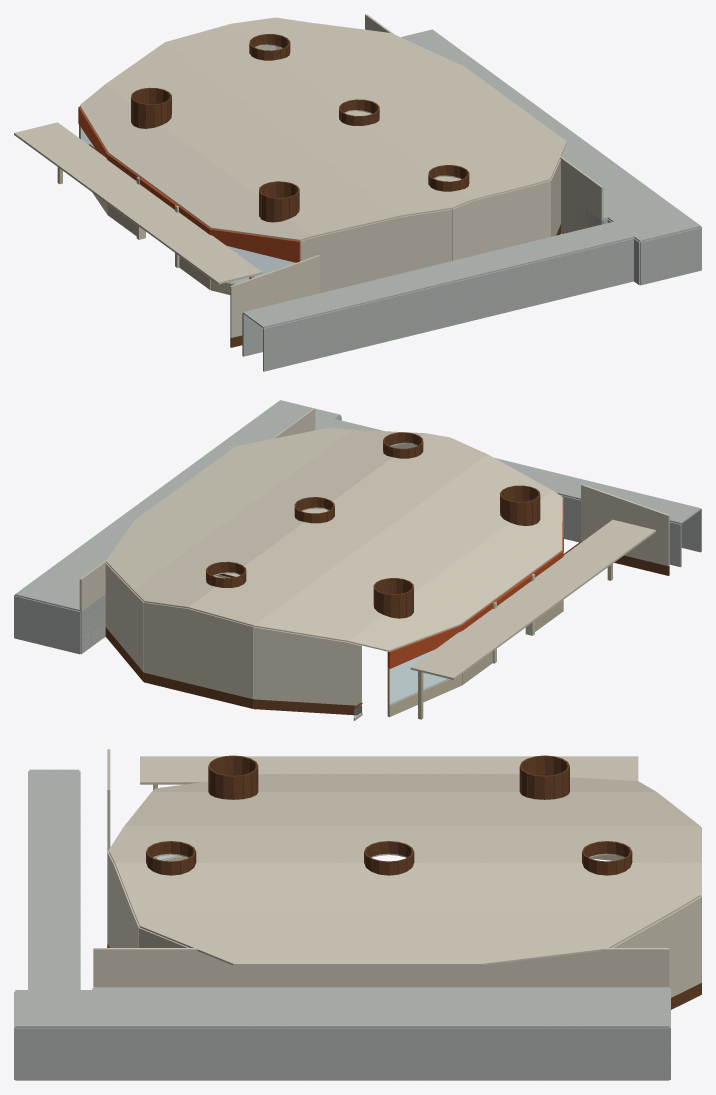
File: AST-RTL-007.glb
3 renders of one model, top to bottom at view 1: azimuth 30°, elevation 25°; view 2: azimuth 150°, elevation 25°; view 3: azimuth 270°, elevation 25°, orthographic. The views are drawn at different scales.
Parts seen in each view (by area): view 1: TAIL_StaffOuter_6, TAIL_PromenadeCanopy, TAIL_PublicCeiling_40, TAIL_PublicCeiling_105, TAIL_PublicCeiling_71, TAIL_PublicWall_22_1, TAIL_PublicCeiling_101, TAIL_ServiceCeiling_4, TAIL_ServiceCeiling_1, TAIL_PublicCeiling_41, TAIL_PublicCeiling_102, TAIL_PublicCeiling_1 (+28 smaller); view 2: TAIL_PromenadeCanopy, TAIL_PublicCeiling_40, TAIL_PublicCeiling_105, TAIL_PublicWall_16_0, TAIL_PublicCeiling_71, TAIL_ServiceCeiling_3, TAIL_PublicWall_15_1, TAIL_PublicCeiling_101, TAIL_PublicCeiling_41, TAIL_PublicWall_20, TAIL_PublicCeiling_102, TAIL_PublicCeiling_1 (+35 smaller); view 3: TAIL_StaffOuter_11, TAIL_PublicCeiling_105, TAIL_ServiceCeiling_3, TAIL_ServiceCeiling_0, TAIL_PublicCeiling_101, TAIL_PromenadeCanopy, TAIL_PublicCeiling_40, TAIL_PublicCeiling_71, TAIL_PublicCeiling_102, TAIL_ServiceCeiling_1, TAIL_ServiceCeiling_4, TAIL_UpperStaffScreen_4 (+35 smaller).
Part boxes in pixels (x1,y1,x2,y2): TAIL_StaffOuter_6: [263, 238, 634, 371]; TAIL_PromenadeCanopy: [14, 122, 262, 284]; TAIL_PublicCeiling_40: [165, 42, 400, 214]; TAIL_PublicCeiling_105: [309, 22, 529, 183]; TAIL_PublicCeiling_71: [166, 43, 400, 214]; TAIL_PublicWall_22_1: [313, 216, 401, 293]; TAIL_PublicCeiling_101: [309, 23, 528, 183]; TAIL_ServiceCeiling_4: [263, 221, 634, 328]; TAIL_ServiceCeiling_1: [243, 222, 610, 327]; TAIL_PublicCeiling_41: [172, 115, 400, 215]; TAIL_PublicCeiling_102: [465, 67, 566, 184]; TAIL_PublicCeiling_1: [161, 125, 258, 227]; TAIL_PromenadeCanopy: [410, 519, 655, 679]; TAIL_PublicCeiling_40: [254, 455, 486, 625]; TAIL_PublicCeiling_105: [133, 430, 351, 589]; TAIL_PublicWall_16_0: [254, 627, 348, 704]; TAIL_PublicCeiling_71: [254, 455, 486, 624]; TAIL_ServiceCeiling_3: [15, 428, 241, 611]; TAIL_PublicWall_15_1: [187, 608, 253, 699]; TAIL_PublicCeiling_101: [134, 430, 351, 589]; TAIL_PublicCeiling_41: [397, 454, 499, 580]; TAIL_PublicWall_20: [581, 484, 669, 566]; TAIL_PublicCeiling_102: [135, 429, 351, 519]; TAIL_PublicCeiling_1: [414, 522, 561, 596]; TAIL_StaffOuter_11: [109, 1028, 669, 1080]; TAIL_PublicCeiling_105: [134, 910, 673, 963]; TAIL_ServiceCeiling_3: [109, 987, 669, 1027]; TAIL_ServiceCeiling_0: [93, 987, 657, 1025]; TAIL_PublicCeiling_101: [135, 875, 671, 910]; TAIL_PromenadeCanopy: [140, 756, 638, 784]; TAIL_PublicCeiling_40: [129, 799, 698, 825]; TAIL_PublicCeiling_71: [125, 826, 699, 850]; TAIL_PublicCeiling_102: [135, 911, 482, 965]; TAIL_ServiceCeiling_1: [29, 769, 79, 989]; TAIL_ServiceCeiling_4: [29, 770, 78, 989]; TAIL_UpperStaffScreen_4: [93, 948, 241, 987].
Bounding box in the file's own units: 39.09 × 8.26 × 44.18.
Materials: 11 (9 with a texture image).
